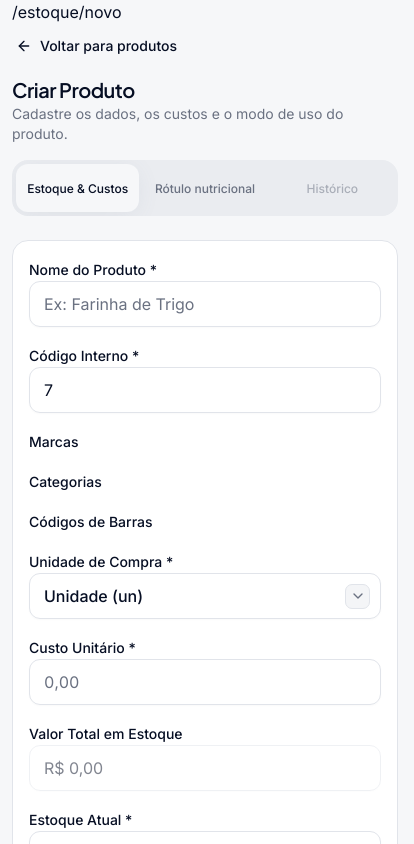
Test: stock product page navigation and saving › returns to required fields when saving an incomplete product from another tab
This screenshot has width=414, height=844.
Expected: the number field labelled "Código Interno *" holds "7", [29,367,381,413]
Press the mouse on the tab "Rótulo nutricional" at (205, 188), box [143,164,267,212]
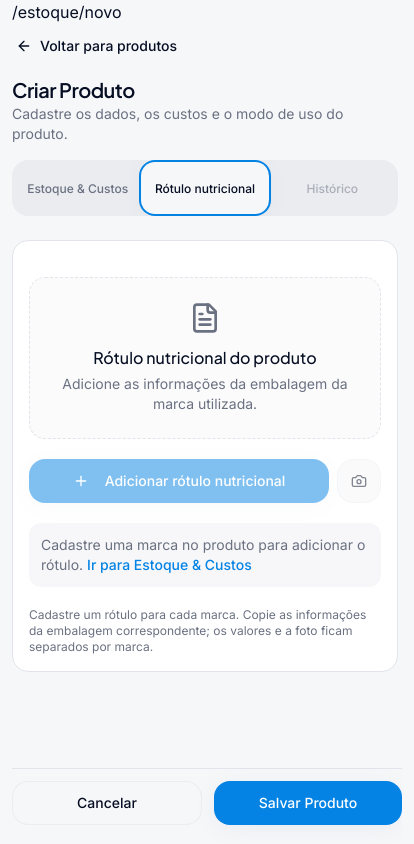
Click the button "Salvar Produto" at (308, 803), box [214,781,402,825]
(page scrolled)
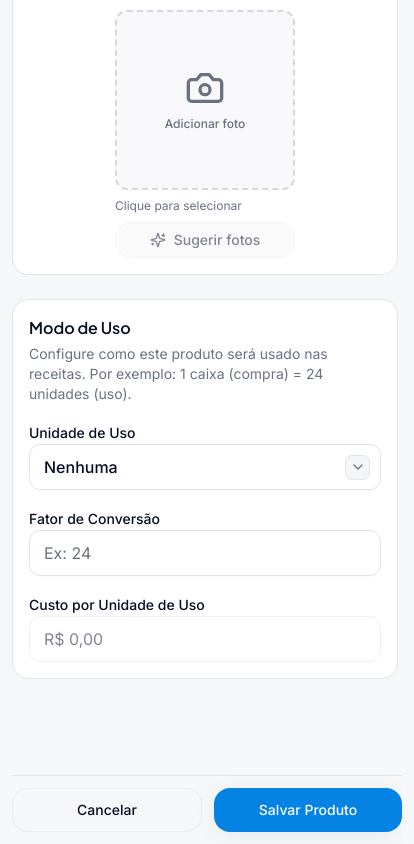
Click the button "Cancelar" at (107, 810), box [12,788,202,832]
(page scrolled)
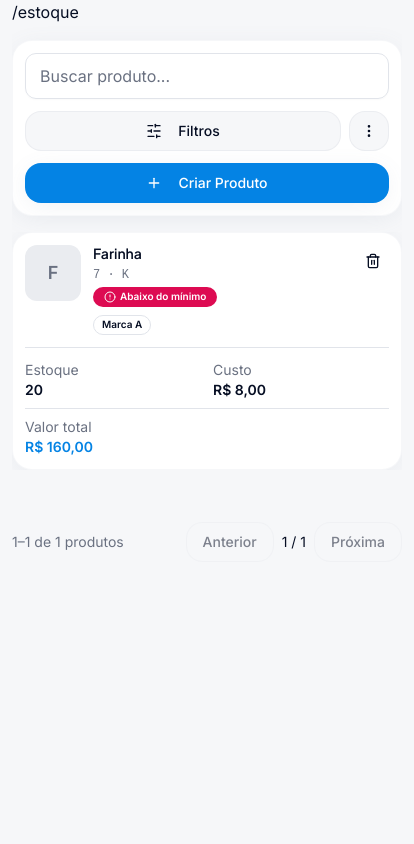
Expected: the text named "Endereço atual" reads "/estoque", [12,2,79,22]
